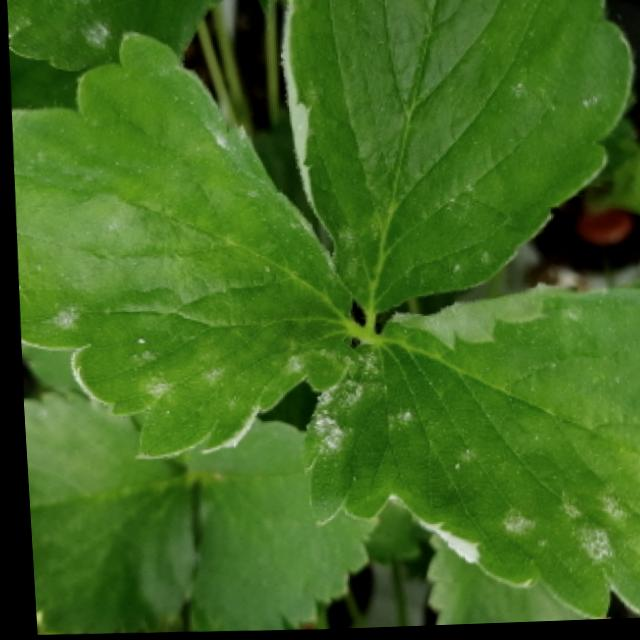Powdery Mildew Leaf: (9, 27, 352, 461), (290, 289, 640, 624), (278, 0, 634, 319), (6, 0, 221, 73)
